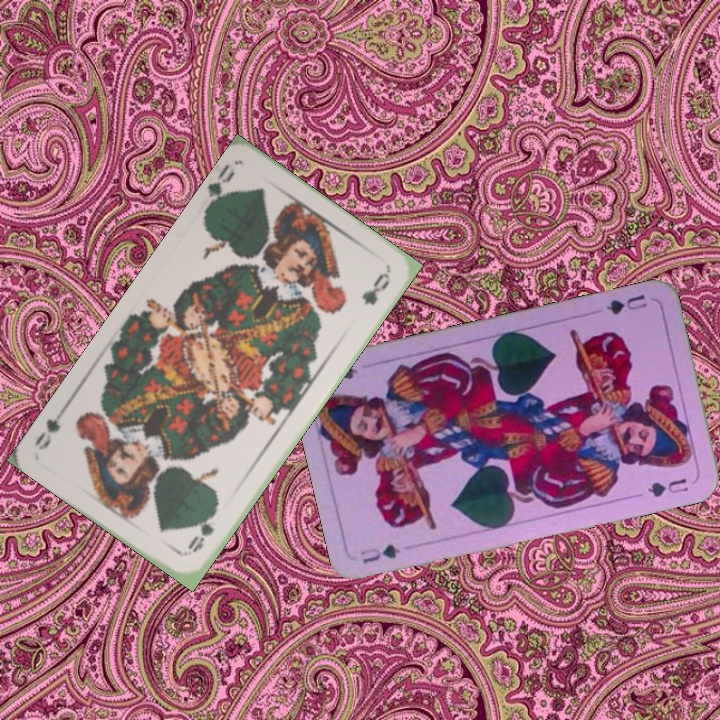GO: (200, 161, 239, 214), (183, 504, 220, 556)
GU: (602, 289, 650, 318), (356, 540, 402, 567)
